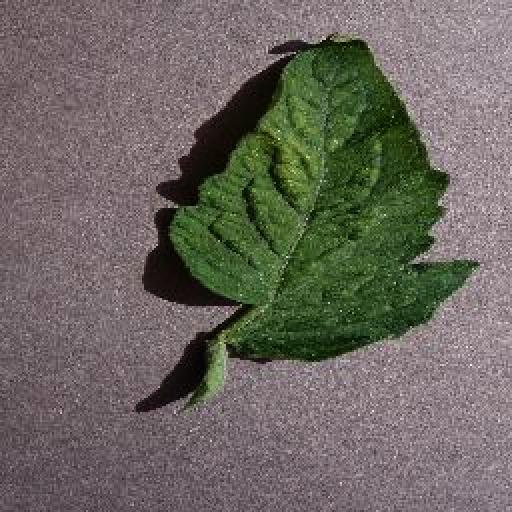disease_tomato: (171, 32, 477, 362)
